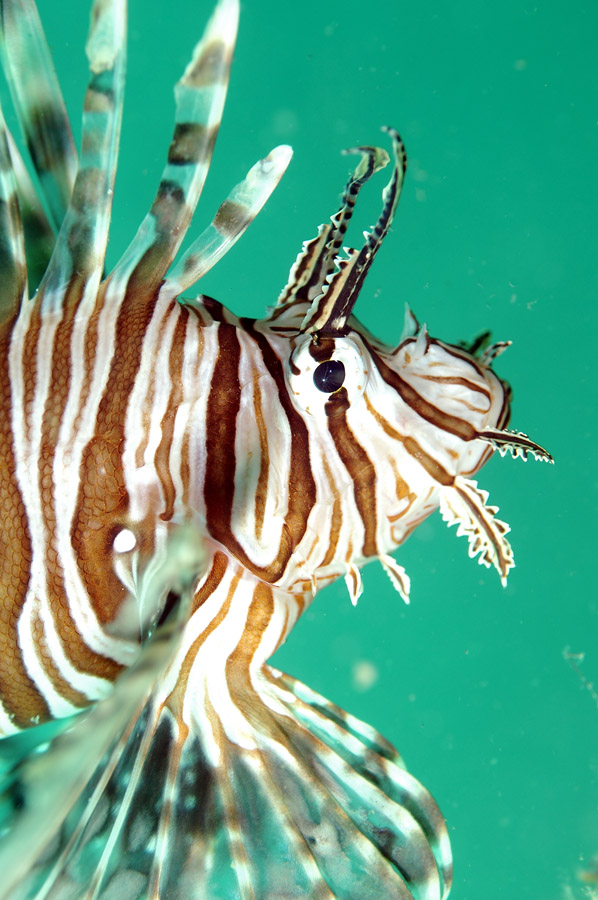Pterois_volitans: (1, 16, 582, 891)
